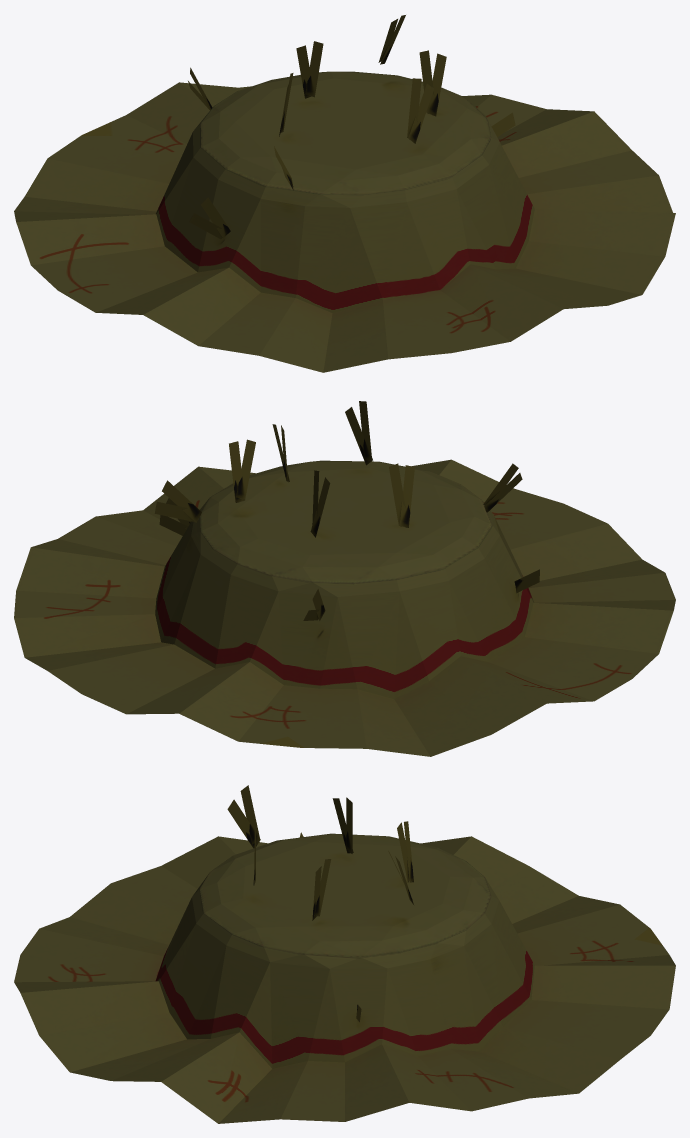
File: paja.fbx
3 views of the same model, one above another, from view 1: azimuth 30°, elevation 25°; view 2: azimuth 150°, elevation 25°; view 3: azimuth 270°, elevation 25° (orthographic).
Parts seen in each view (by area): view 1: Cylinder; view 2: Cylinder; view 3: Cylinder.
Boxes of the visible parts, <box> form: Cylinder: <box>14,15,675,372</box>; Cylinder: <box>14,401,675,756</box>; Cylinder: <box>14,785,675,1123</box>.
Bounding box in the file's own units: 2.53 × 0.7649 × 2.53.
